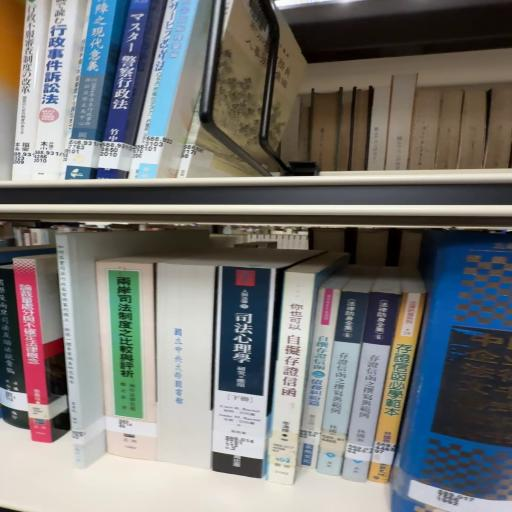backward: (159, 263, 219, 469)
book: (391, 228, 512, 512), (267, 251, 354, 487), (212, 263, 278, 480), (1, 246, 68, 437), (343, 286, 399, 484), (12, 256, 47, 418)
